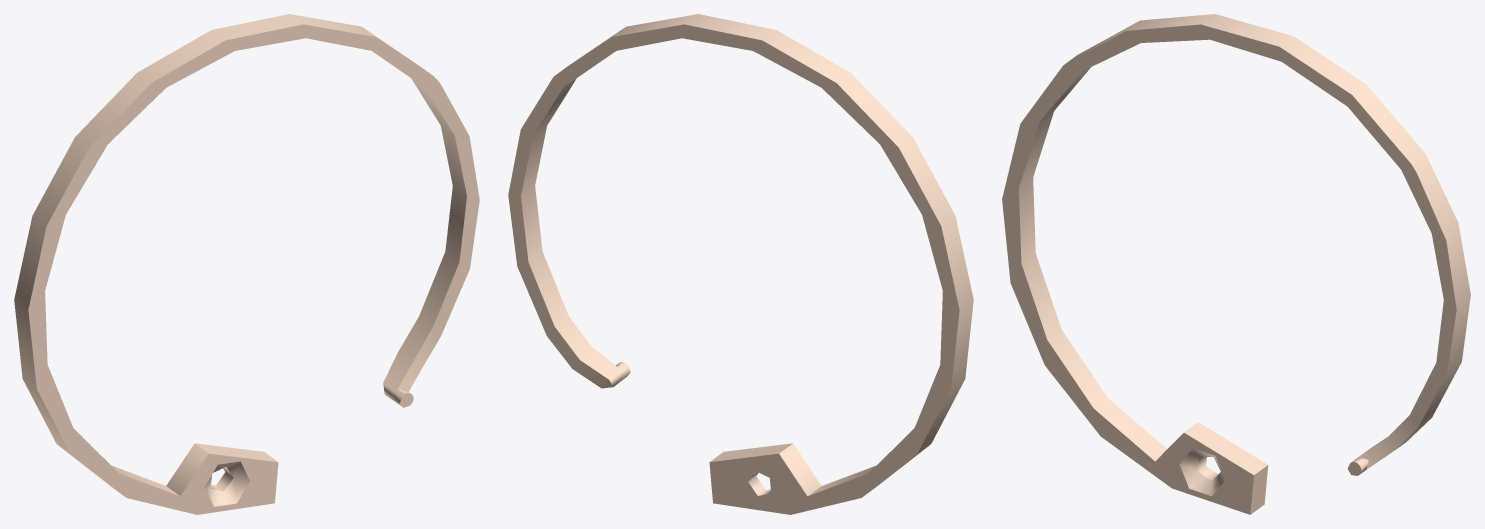
File: Ressort anti-retour barillet.obj
3 renders of one model, left to right at view 1: azimuth 30°, elevation 25°; view 2: azimuth 150°, elevation 25°; view 3: azimuth 330°, elevation 25°, orthographic.
Visible parts, largest first — view 1: Face_2, Face_6, Face_5, Face_19, Face_9, Face_13, Face_8; view 2: Face_1, Face_6, Face_5, Face_9, Face_8; view 3: Face_2, Face_4, Face_6, Face_3, Face_8, Face_19, Face_13, Face_7.
Boxes of the visible parts, x1,y1,x2,y2 form: Face_2: (28,24,479,514); Face_6: (14,14,429,495); Face_5: (383,78,466,396); Face_19: (204,461,249,506); Face_9: (166,443,208,496); Face_13: (397,327,440,391); Face_8: (195,443,277,461); Face_1: (508,24,959,514); Face_6: (556,14,973,494); Face_5: (521,78,627,379); Face_9: (779,443,821,496); Face_8: (710,443,792,461); Face_2: (1002,24,1456,514); Face_4: (1019,67,1166,461); Face_6: (1064,14,1424,163); Face_3: (1396,153,1470,449); Face_8: (1184,422,1267,474); Face_19: (1179,448,1224,496); Face_13: (1359,415,1417,469); Face_7: (1250,465,1268,514).
Size of the model in its own units: 0.0642 by 0.0646 by 0.007.
